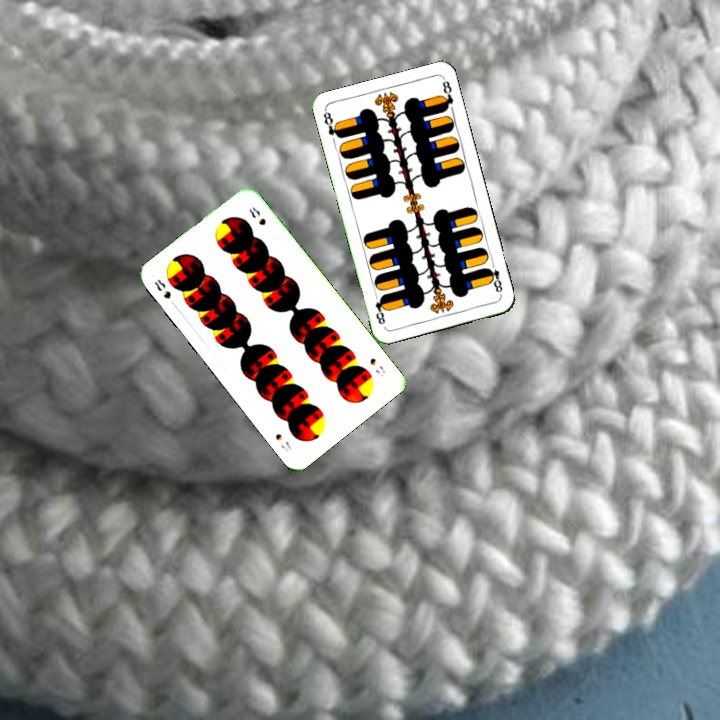E8: (483, 257, 505, 298), (319, 107, 343, 141)
S8: (150, 275, 174, 301), (366, 354, 387, 379)
